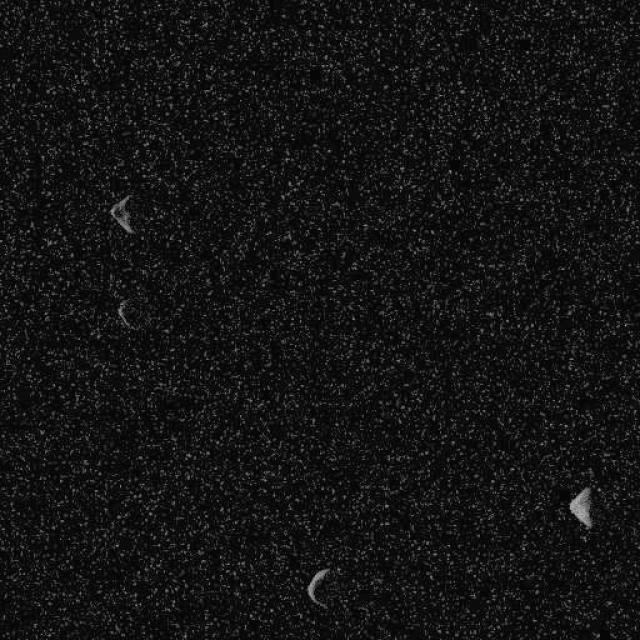D2: (107, 194, 135, 234), (305, 566, 331, 609), (568, 485, 592, 529), (115, 298, 135, 328)
